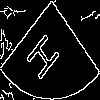H: (24, 25, 66, 83)
